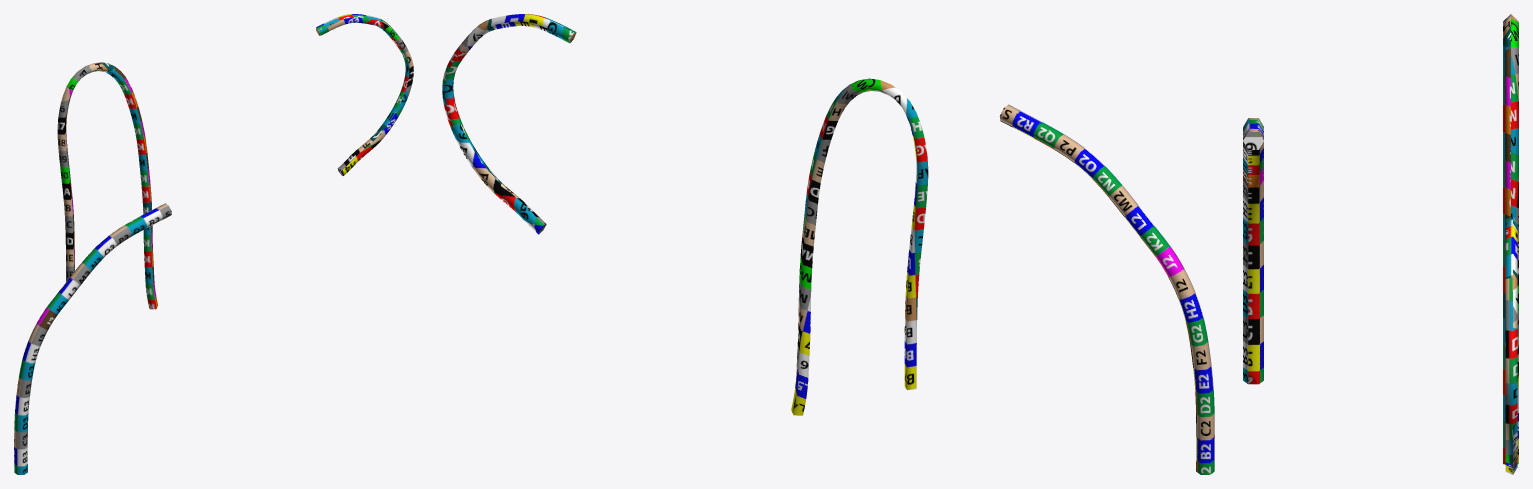
The model's file is Wires.fbx.
3 views of the same model, side by side, from view 1: azimuth 30°, elevation 25°; view 2: azimuth 150°, elevation 25°; view 3: azimuth 270°, elevation 25° (orthographic). The views are drawn at different scales.
Visible parts, largest first — view 1: Wire01, Wire02, Wire03; view 2: Wire02, Wire01, Wire03; view 3: Wire01, Wire02, Wire03.
Boxes of the visible parts, box(x1,y1,x2,y2) form: Wire01: box(14, 203, 171, 474); Wire02: box(57, 62, 157, 309); Wire03: box(316, 14, 413, 175); Wire02: box(791, 78, 928, 415); Wire01: box(999, 104, 1214, 474); Wire03: box(442, 14, 576, 234); Wire01: box(1243, 118, 1263, 384); Wire02: box(1503, 14, 1518, 464); Wire03: box(1505, 217, 1517, 474).
Size of the model in its own units: 26.21 by 16.16 by 8.43.
Materials: 1 (1 with a texture image).
